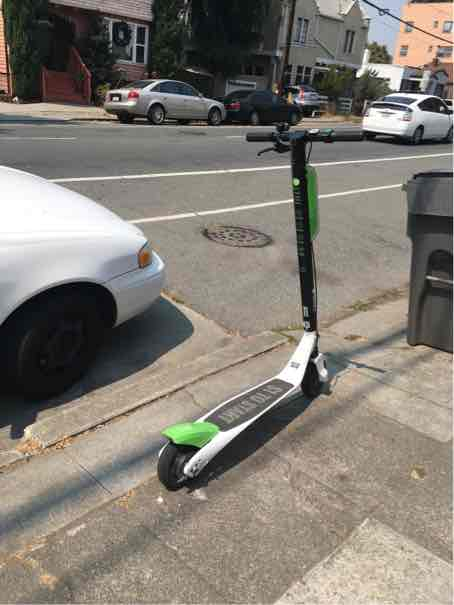scooter: (152, 109, 363, 494)
